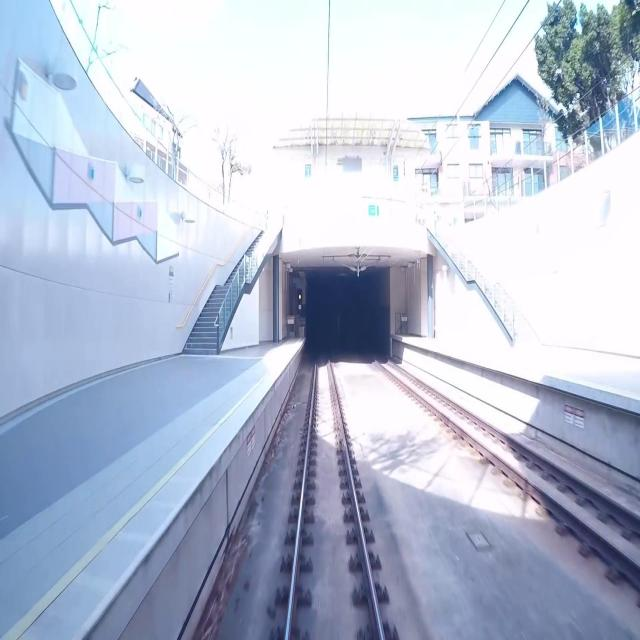rail-track: (367, 346, 640, 562), (289, 344, 379, 639)
